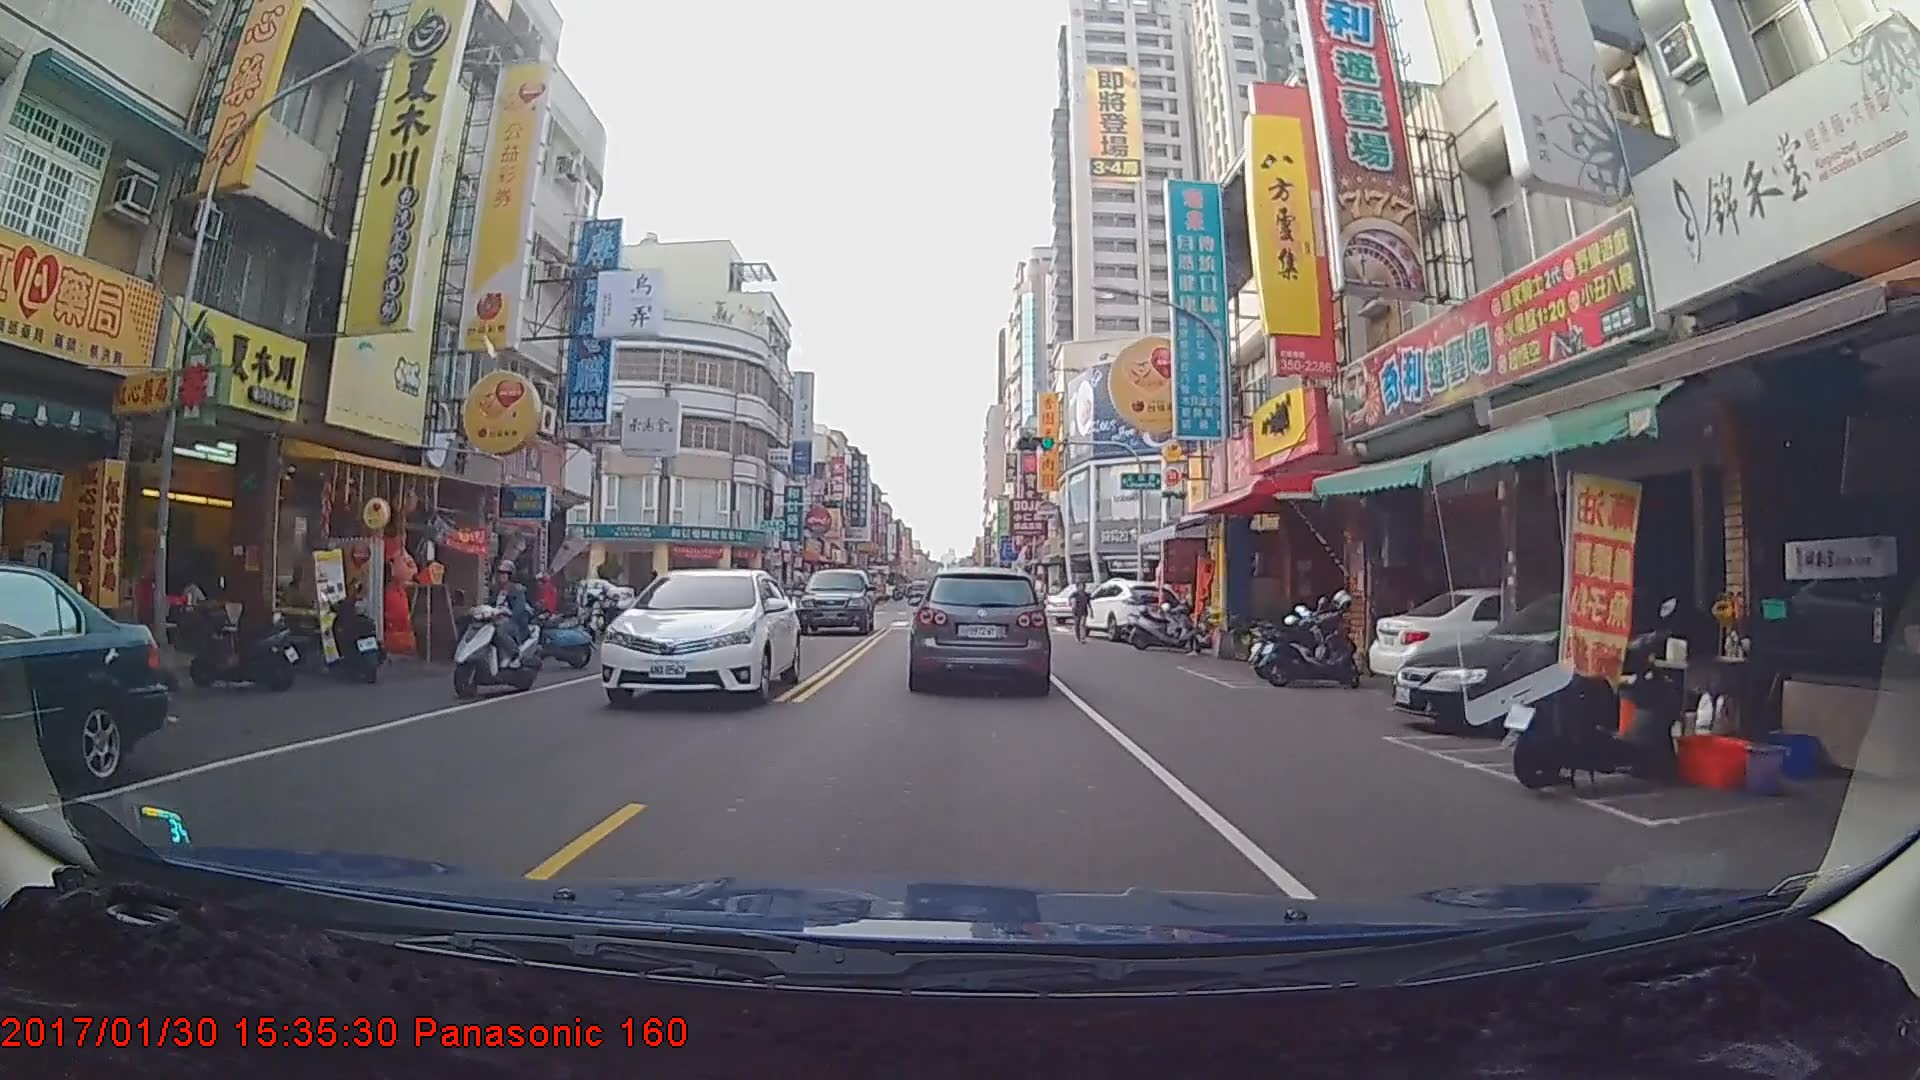pedestrian: (1071, 582, 1092, 647)
rider: (446, 562, 557, 705)
vehicle: (0, 560, 168, 790), (599, 567, 799, 712), (910, 566, 1049, 691), (1076, 576, 1185, 640), (794, 566, 876, 635)
